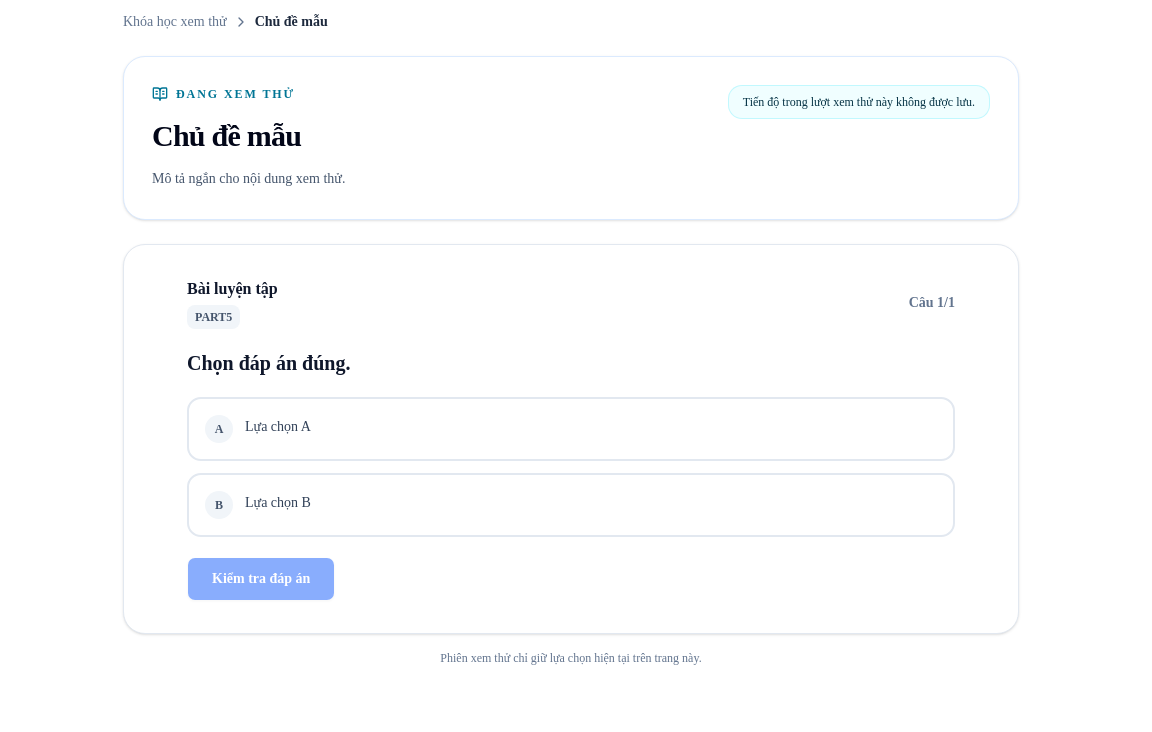
public course Preview experience › clears protected content when answer evaluation reports that access was revoked
Click the button with aria-label "A. Lựa chọn A" at [278, 426], box [187, 396, 955, 460]
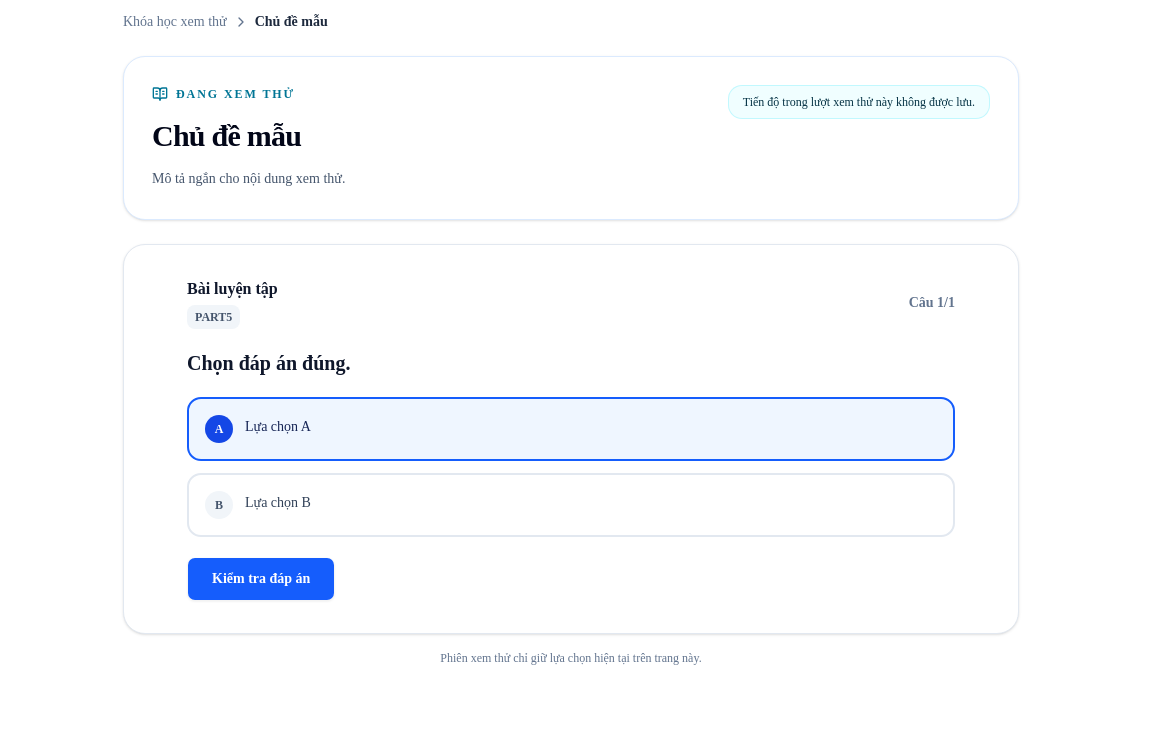
Click the button "Kiểm tra đáp án" at [261, 578], box [187, 556, 335, 600]
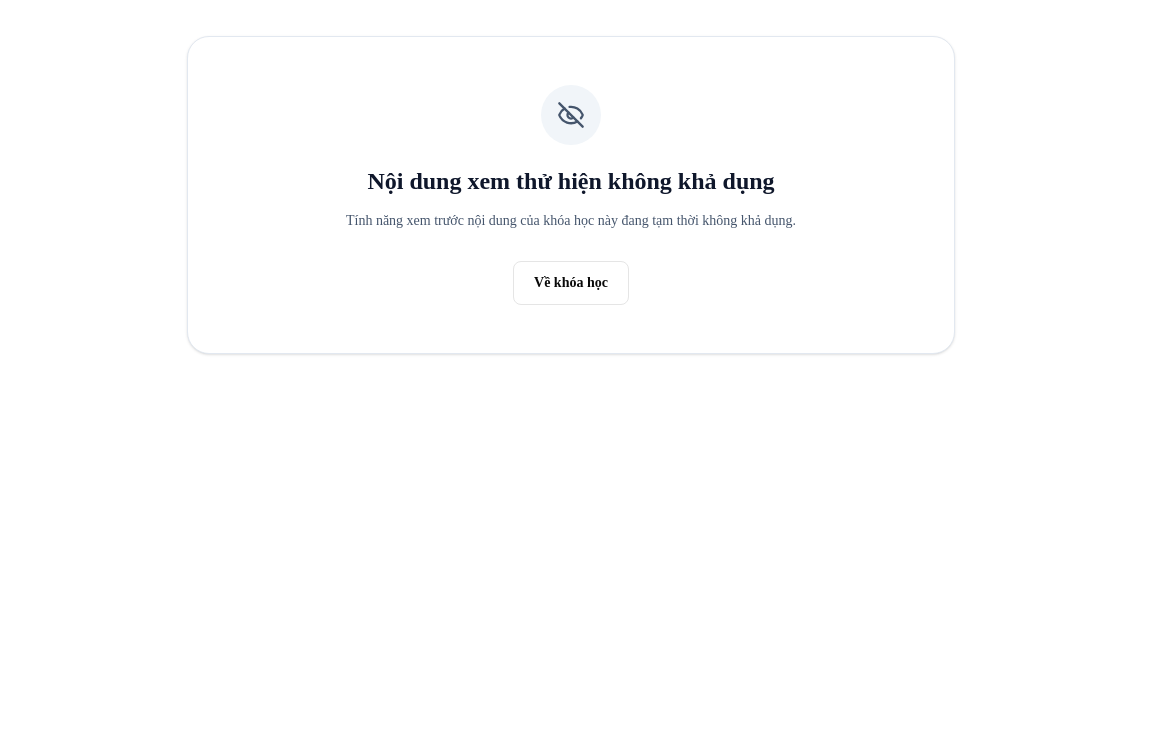
Now the heading "Nội dung xem thử hiện không khả dụng" is shown, box [367, 165, 775, 197]
Now the text "Chọn đáp án đúng." is gone
